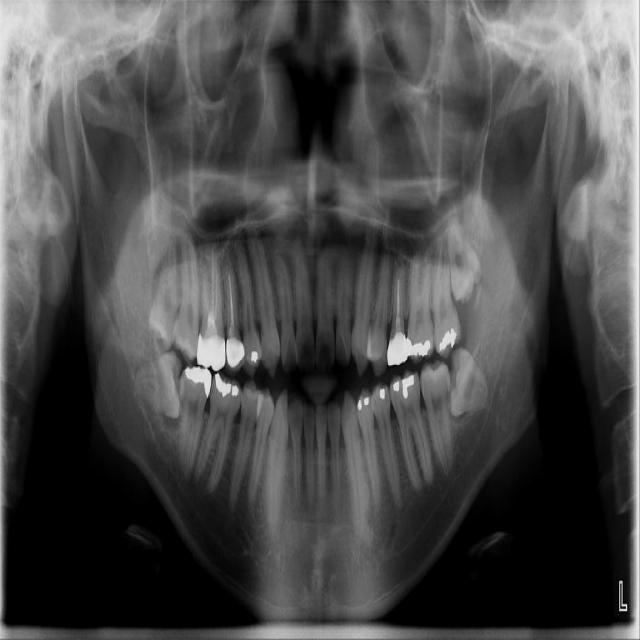Crown: (387, 328, 408, 368)
Filling: (197, 325, 226, 373), (224, 335, 244, 377), (185, 368, 211, 397), (213, 374, 239, 401), (391, 374, 415, 400), (405, 336, 431, 356), (436, 328, 456, 354), (246, 349, 260, 370), (376, 386, 387, 401), (357, 395, 370, 407)
Root Canal Treatment: (227, 274, 237, 324), (201, 273, 209, 312), (214, 271, 218, 310), (211, 284, 215, 311), (396, 277, 398, 320), (211, 251, 213, 284)
impacted tooth: (127, 352, 180, 417), (448, 214, 485, 303), (149, 242, 179, 346), (448, 350, 489, 414)
